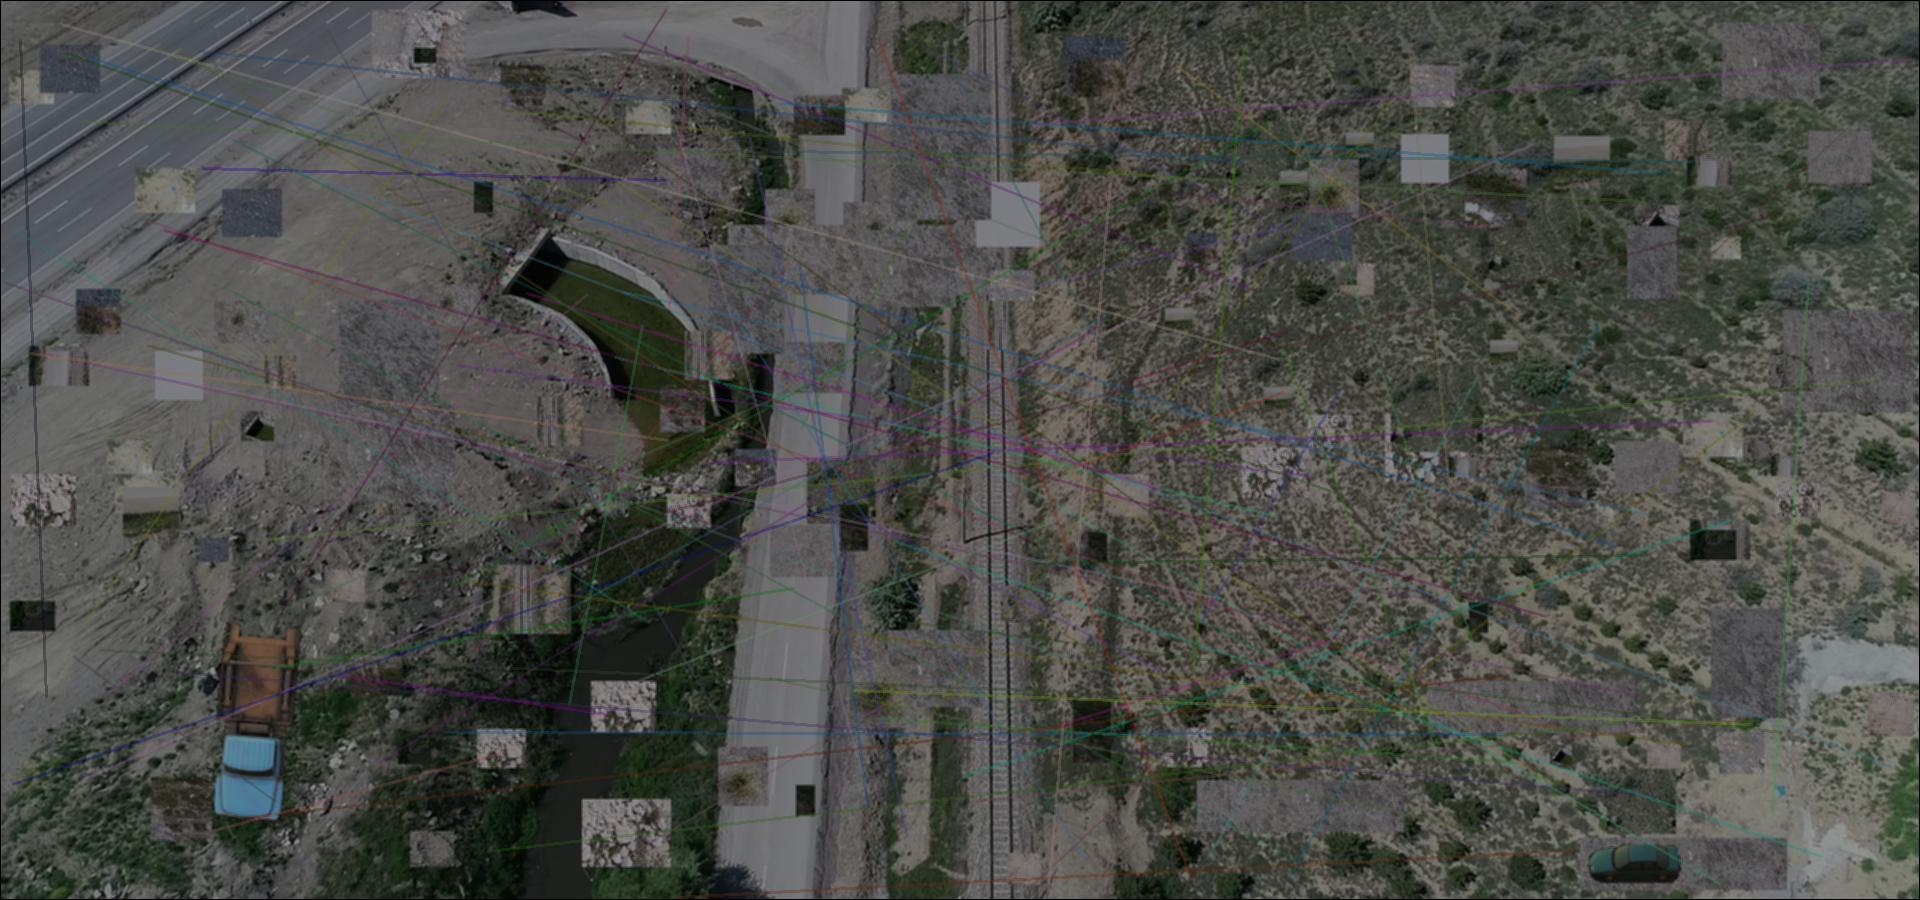arac: (206, 618, 306, 827), (1587, 844, 1682, 883)
